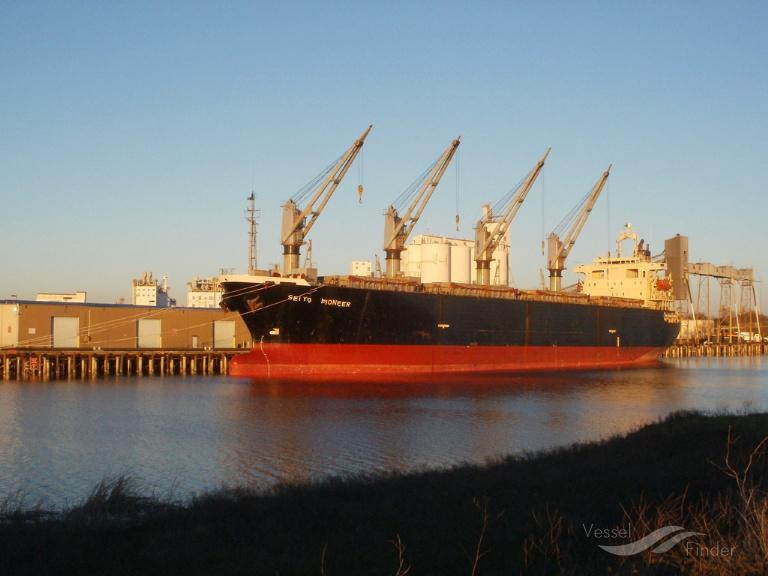OCR: (285, 288, 355, 314)
